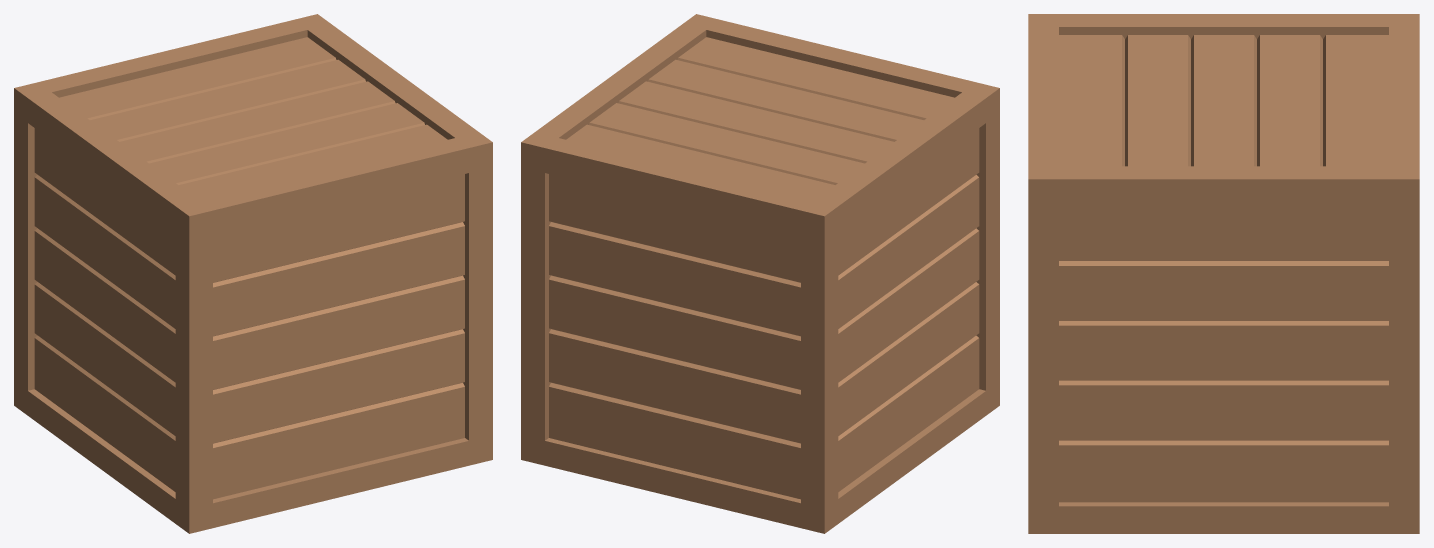
The picture shows the model from 3 angles, left to right: view 1: azimuth 30°, elevation 25°; view 2: azimuth 150°, elevation 25°; view 3: azimuth 270°, elevation 25°; orthographic projection. The views are drawn at different scales.
Parts seen in each view (by area): view 1: Cube.008; view 2: Cube.008; view 3: Cube.008.
Boxes of the visible parts, box(x1,y1,x2,y2) form: Cube.008: box(14, 14, 492, 533); Cube.008: box(521, 14, 999, 533); Cube.008: box(1028, 14, 1419, 533).
Bounding box in the file's own units: 0.5115 × 0.5115 × 0.5115.
